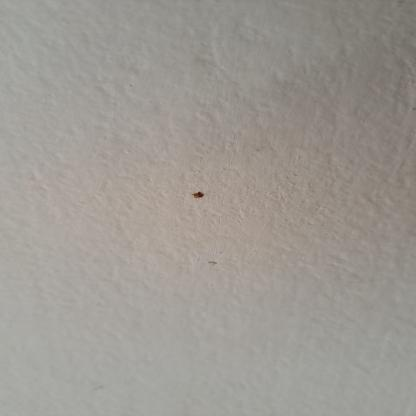spot: (185, 189, 218, 202)
